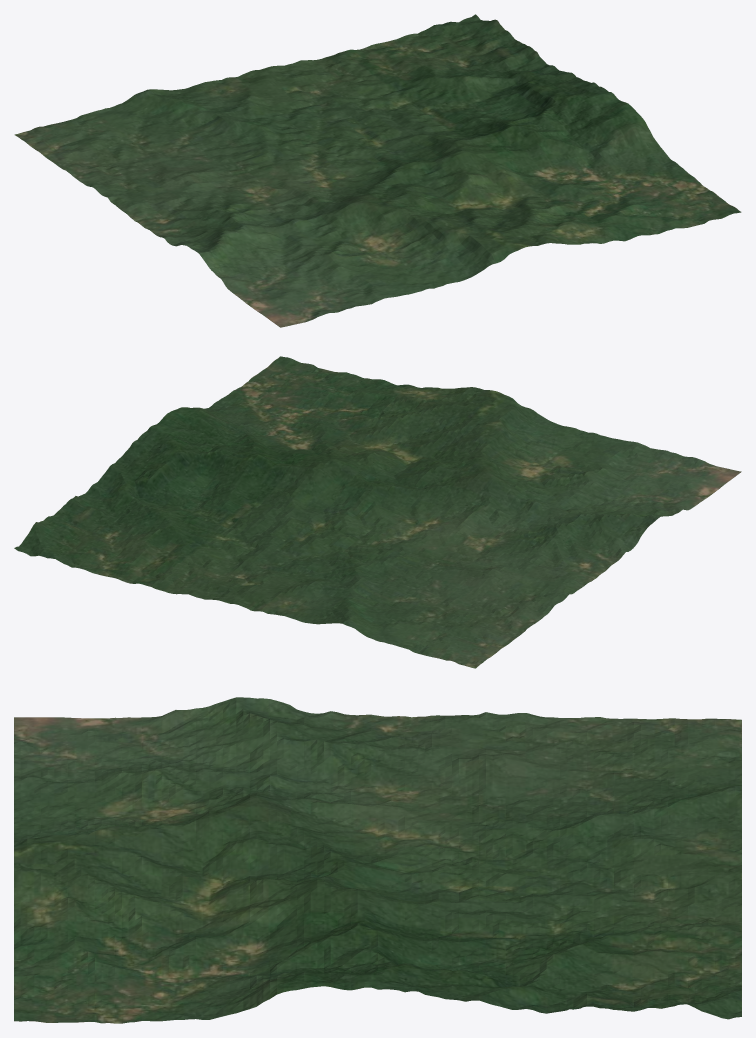
3 views of the same model, one above another, from view 1: azimuth 30°, elevation 25°; view 2: azimuth 150°, elevation 25°; view 3: azimuth 270°, elevation 25° (orthographic). The views are drawn at different scales.
Parts seen in each view (by area): view 1: geometry_0; view 2: geometry_0; view 3: geometry_0.
Part boxes in pixels (<box>): geometry_0: <box>14,14,741,327</box>; geometry_0: <box>14,356,741,668</box>; geometry_0: <box>14,697,741,1023</box>.
Bounding box in the file's own units: 10015 × 632 × 10010.
1 material, 1 textured.
